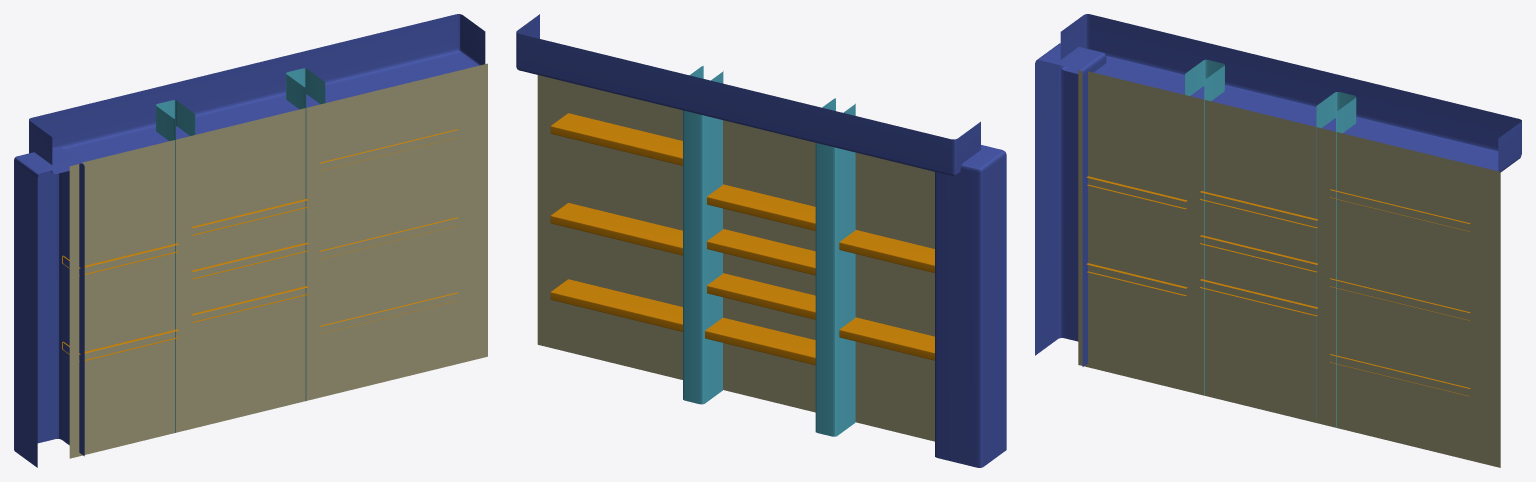
Rendered from SM_Hous1Front_1Floor_R.fbx.
3 views of the same model, side by side, from view 1: azimuth 30°, elevation 25°; view 2: azimuth 150°, elevation 25°; view 3: azimuth 330°, elevation 25° (orthographic).
Visible parts, largest first — view 1: SM_HousFront_01; view 2: SM_HousFront_01; view 3: SM_HousFront_01.
Part boxes in pixels (left/top/right/bottom): SM_HousFront_01: left=14, top=14, right=487, bottom=467; SM_HousFront_01: left=516, top=14, right=1006, bottom=467; SM_HousFront_01: left=1035, top=14, right=1521, bottom=467.
Bounding box in the file's own units: 4.36 × 2.98 × 0.5047.
